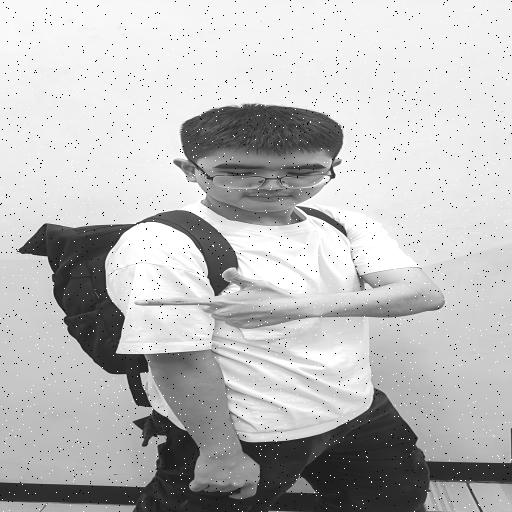next: (118, 261, 317, 340)
